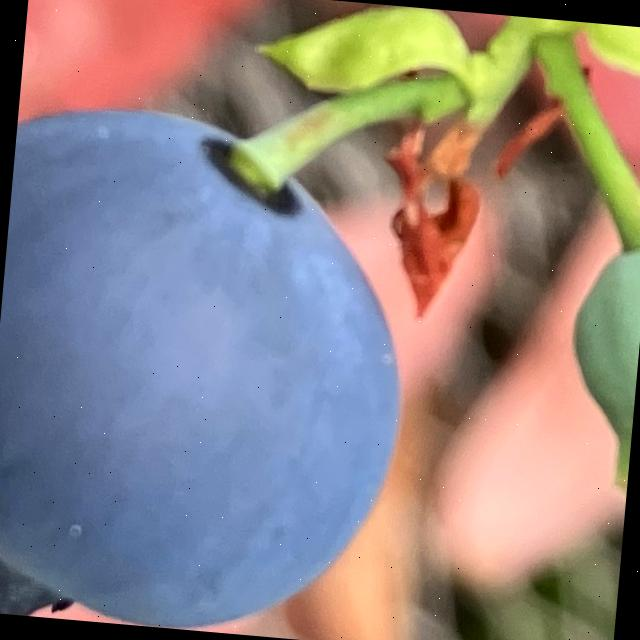Blueberries: (0, 91, 431, 640)
